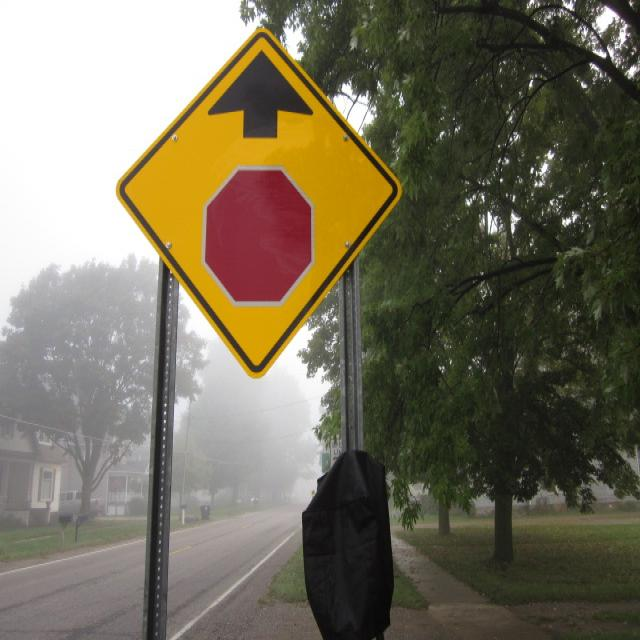stop: (201, 162, 317, 310)
warning: (115, 24, 403, 382)
